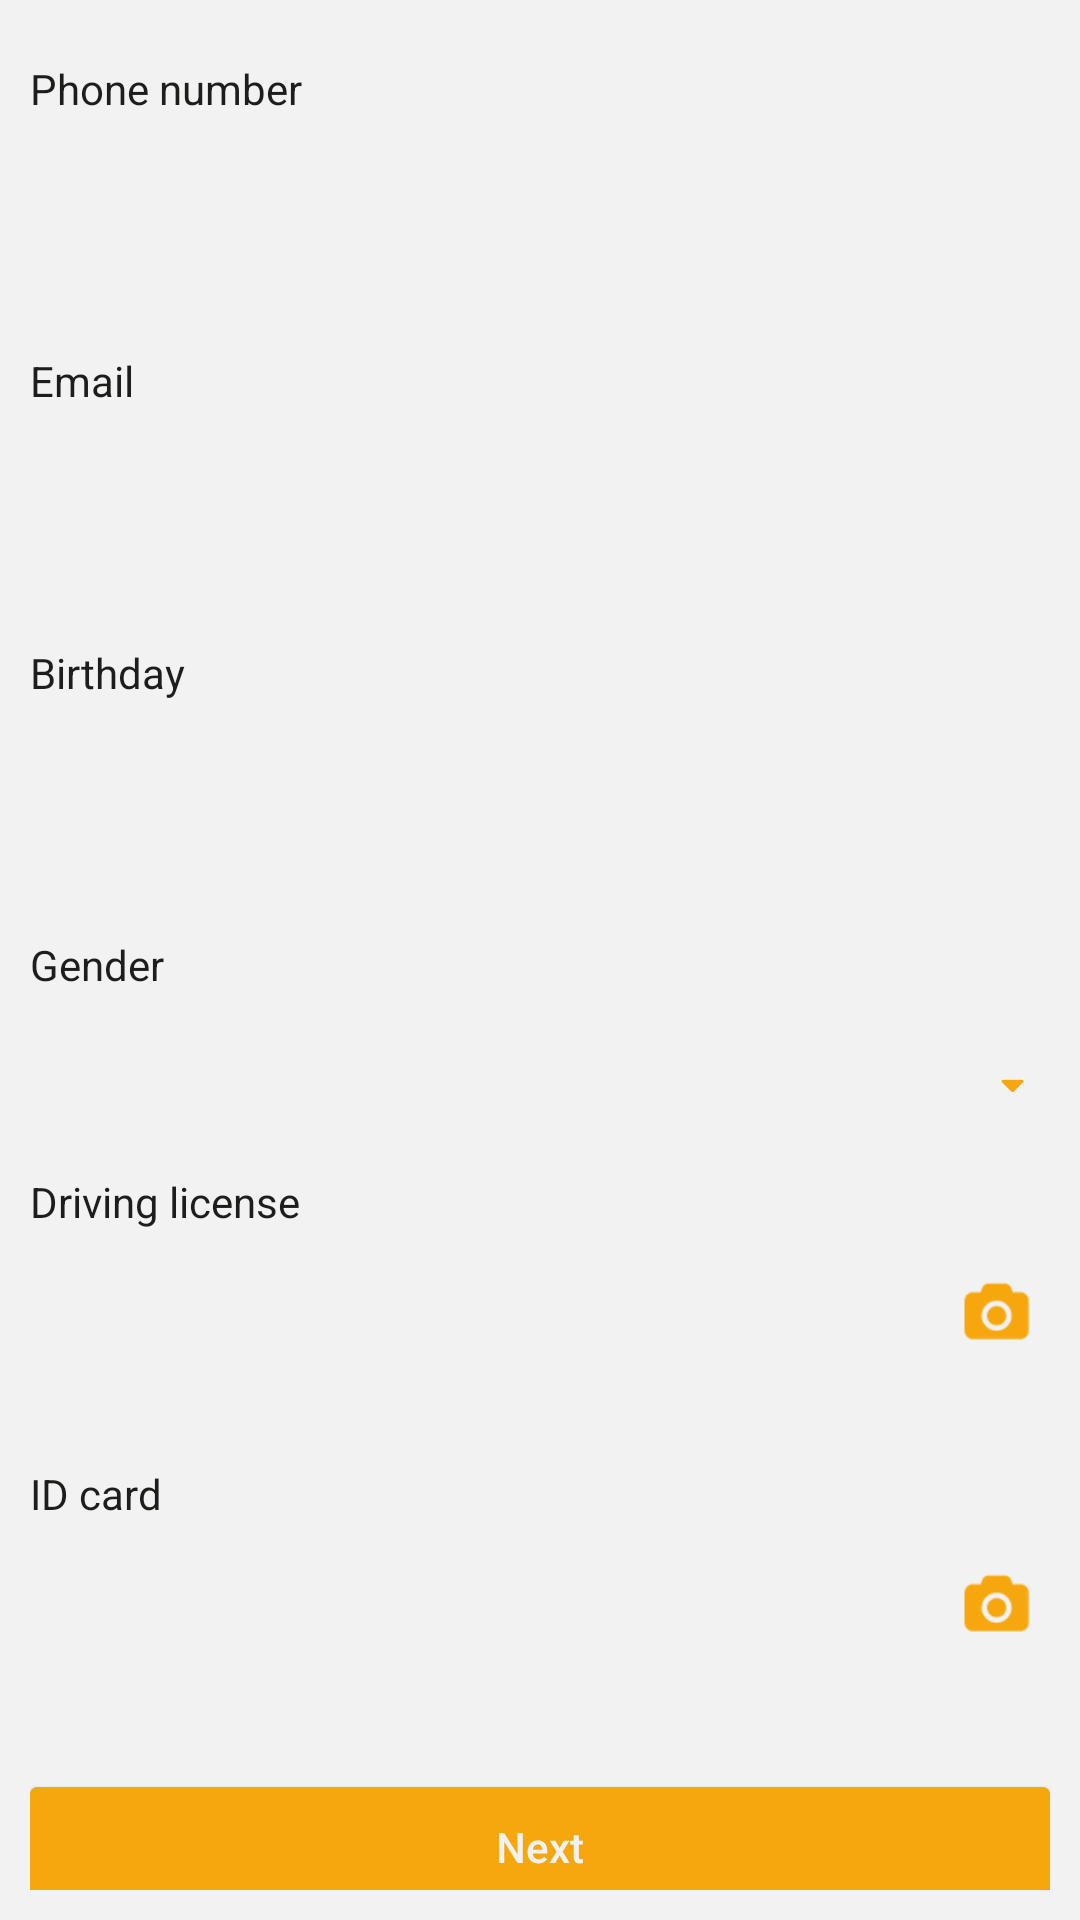

Named icons in this screenshot (1080×1920) and their centers, (x,y):
camera: (997,1311), (997,1603)
